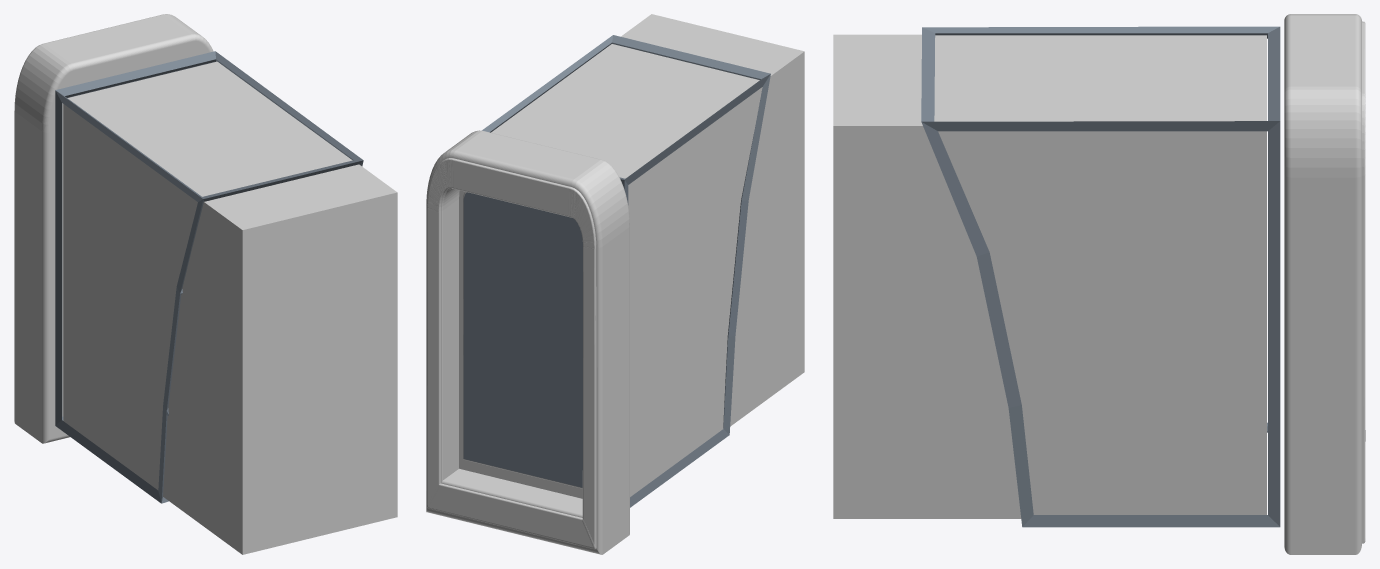
File: Entrance_1.fbx
The picture shows the model from 3 angles, left to right: view 1: azimuth 30°, elevation 25°; view 2: azimuth 150°, elevation 25°; view 3: azimuth 270°, elevation 25°; orthographic projection. The views are drawn at different scales.
Parts seen in each view (by area): view 1: Eingang, Door, Boolcube; view 2: Door, Eingang, Boolcube; view 3: Eingang, Door, Boolcube.
Boxes of the visible parts, x1,y1,x2,y2 form: Eingang: [63, 61, 397, 554]; Door: [14, 14, 213, 443]; Boolcube: [55, 51, 363, 503]; Door: [426, 130, 629, 554]; Eingang: [491, 14, 804, 496]; Boolcube: [482, 35, 770, 507]; Eingang: [833, 34, 1266, 518]; Door: [1284, 14, 1365, 554]; Boolcube: [921, 26, 1280, 527].
Bounding box in the file's own units: 8.02 × 16.06 × 17.17.
